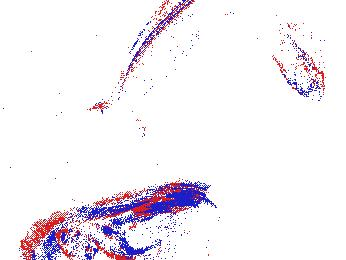X-ray fish: (266, 5, 328, 103), (52, 220, 144, 260)
glassfish: (85, 1, 241, 122), (10, 182, 207, 249)
